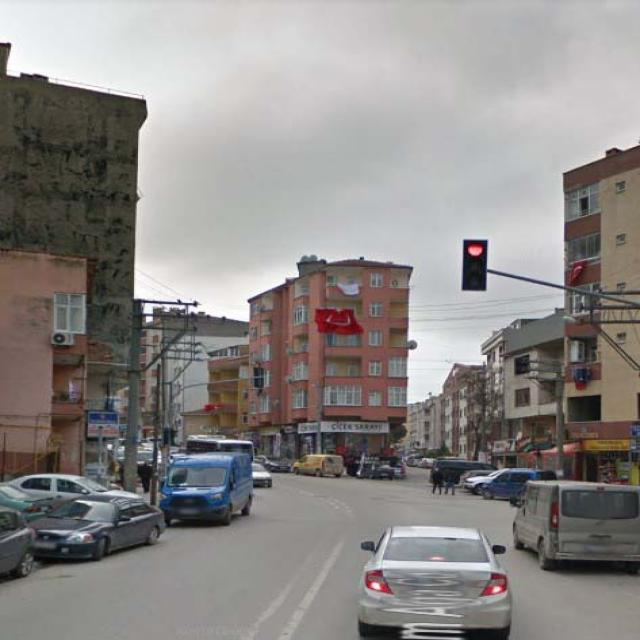kirmizi: (464, 241, 486, 292)
